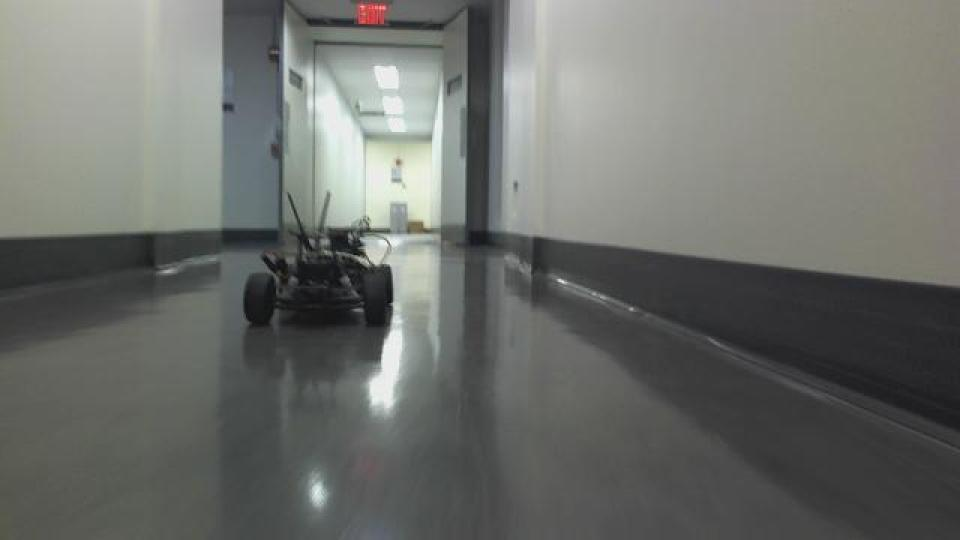car: (238, 188, 396, 330)
